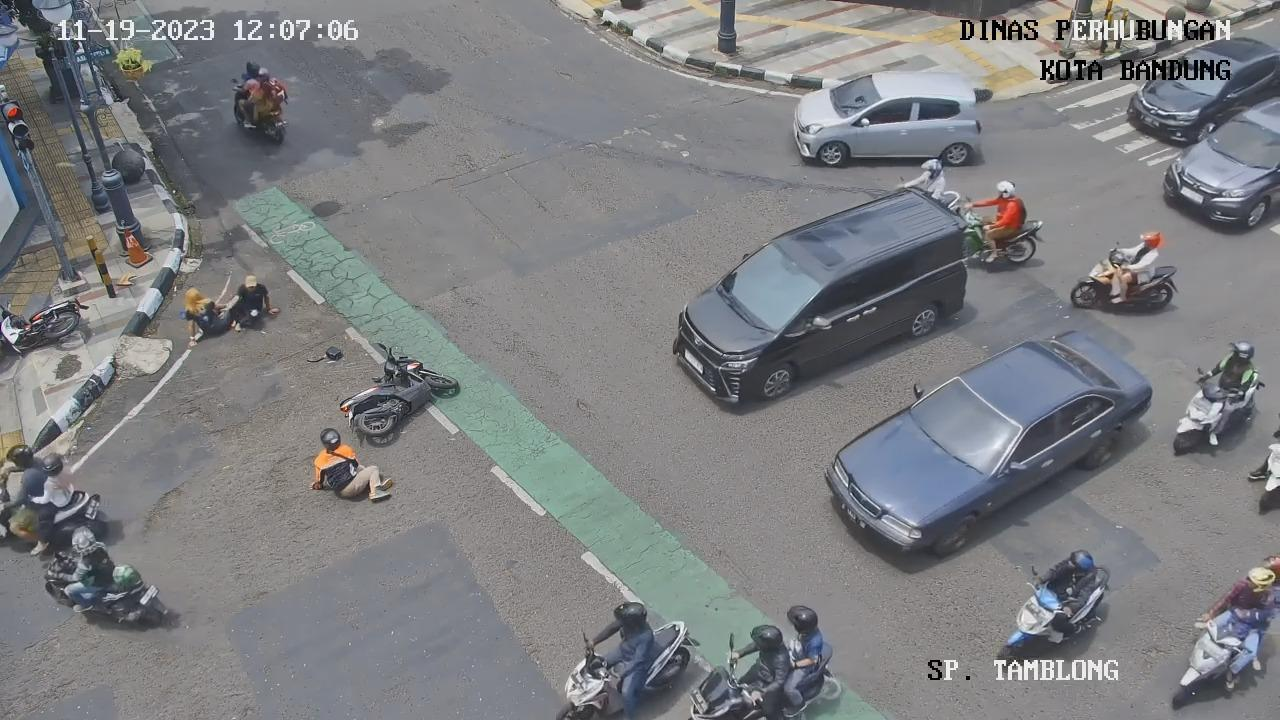accident: (300, 420, 400, 513), (174, 277, 236, 341), (227, 267, 282, 339)
